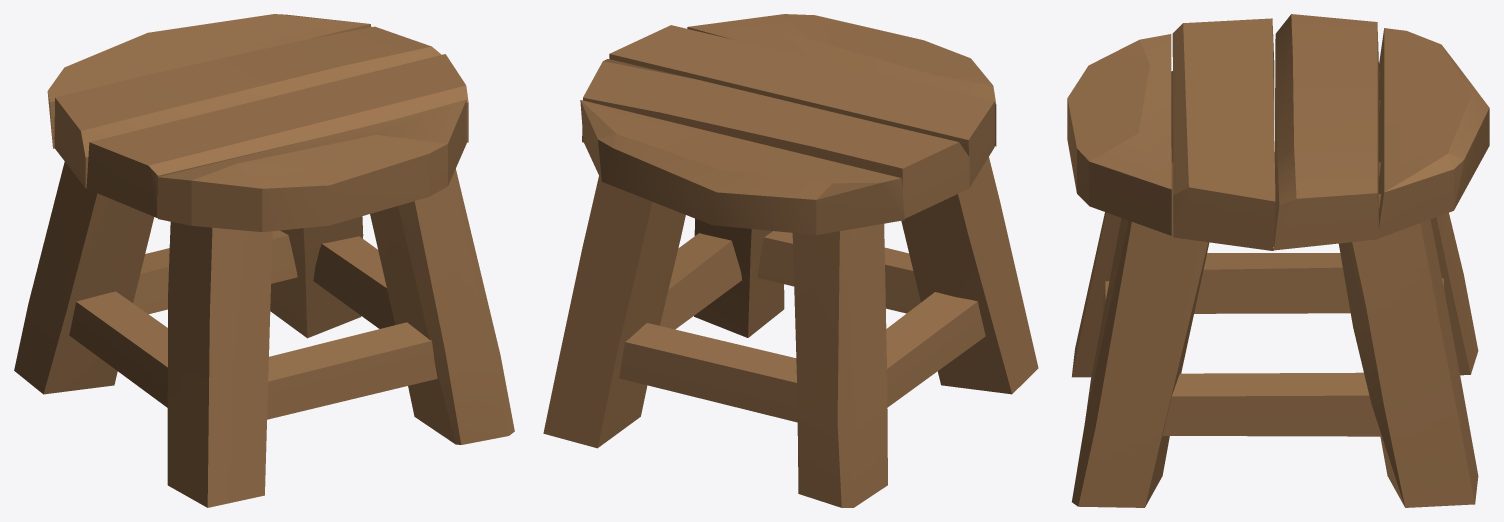
File: Stool_A.fbx
3 views of the same model, side by side, from view 1: azimuth 30°, elevation 25°; view 2: azimuth 150°, elevation 25°; view 3: azimuth 270°, elevation 25° (orthographic). The views are drawn at different scales.
Visible parts, largest first — view 1: Stool_A; view 2: Stool_A; view 3: Stool_A.
Boxes of the visible parts, x1,y1,x2,y2 form: Stool_A: (14, 14, 514, 507); Stool_A: (543, 14, 1038, 507); Stool_A: (1067, 14, 1489, 507).
Bounding box in the file's own units: 55.77 × 45.32 × 53.76.
